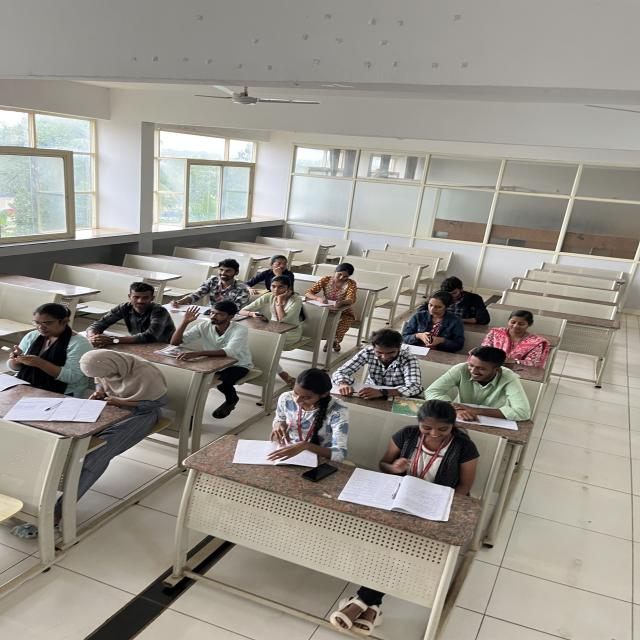Hand Rising: (174, 304, 244, 354)
Reading: (376, 401, 468, 488), (341, 326, 421, 391)
Using Phone: (2, 304, 86, 381), (80, 346, 159, 407), (407, 292, 469, 348), (240, 276, 302, 325)
Writing: (252, 369, 357, 458), (166, 258, 242, 312), (306, 262, 354, 307)
